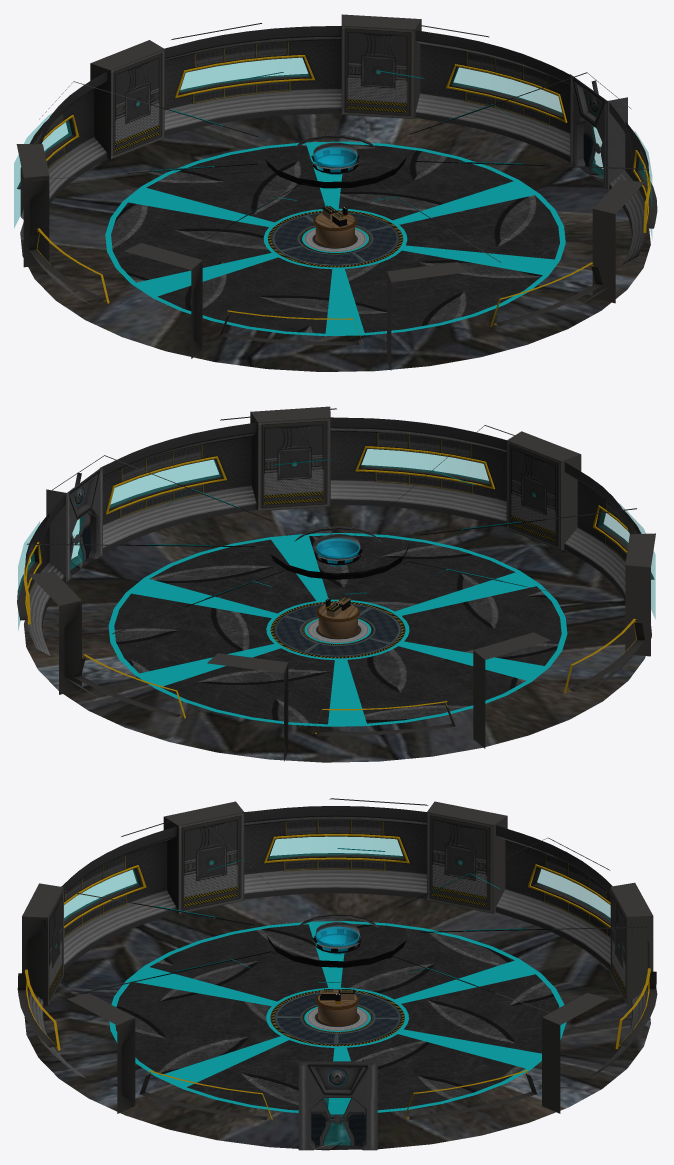
Rendered from Series_parallel.gltf.
3 views of the same model, one above another, from view 1: azimuth 30°, elevation 25°; view 2: azimuth 150°, elevation 25°; view 3: azimuth 270°, elevation 25° (orthographic).
Parts seen in each view (by area): view 1: Floor, Wall9, Wall10, wall4, wall7, Window_Glass, Wall8, Roof, Door_Wall, wall6, wall3, Wall11 (+10 smaller); view 2: Floor, Wall, Wall11, wall3, wall5, Window_Glass, Wall6, Roof, Door_Wall, wall2, wall4, Wall10 (+10 smaller); view 3: Floor, Wall7, Wall8, Wall6, wall6, wall2, Window_Glass, Door_Wall, wall7, wall5, Roof, wall3 (+11 smaller).
Part boxes in pixels (x1,y1,x2,y2): Floor: (20,113,650,371); Wall9: (164,26,341,135); Wall10: (415,30,570,162); wall4: (341,14,421,118); wall7: (90,40,164,159); Window_Glass: (14,58,651,235); Wall8: (17,71,107,219); Roof: (32,23,645,262); Door_Wall: (570,74,627,189); wall6: (16,144,49,267); wall3: (592,179,644,303); Wall11: (609,102,657,264); Floor: (24,504,651,762); Wall: (330,417,506,527); Wall11: (100,422,256,553); wall3: (250,406,330,511); wall5: (506,431,581,550); Window_Glass: (18,449,655,629); Wall6: (564,462,654,600); Roof: (27,408,636,634); Door_Wall: (46,466,102,581); wall2: (625,533,655,656); wall4: (29,571,81,694); Wall10: (17,495,65,656); Floor: (24,893,650,1150); Wall7: (244,806,426,899); Wall8: (496,825,612,970); Wall6: (61,826,176,970); wall6: (427,801,507,913); wall2: (163,801,244,914); Window_Glass: (64,837,610,920); Door_Wall: (298,1059,377,1150); wall7: (610,882,653,1005); wall5: (22,883,63,1006); Roof: (54,798,647,1012); wall3: (67,993,135,1113).
Bounding box in the file's own units: 32.17 × 5.05 × 32.29.
16 materials, 10 textured.
